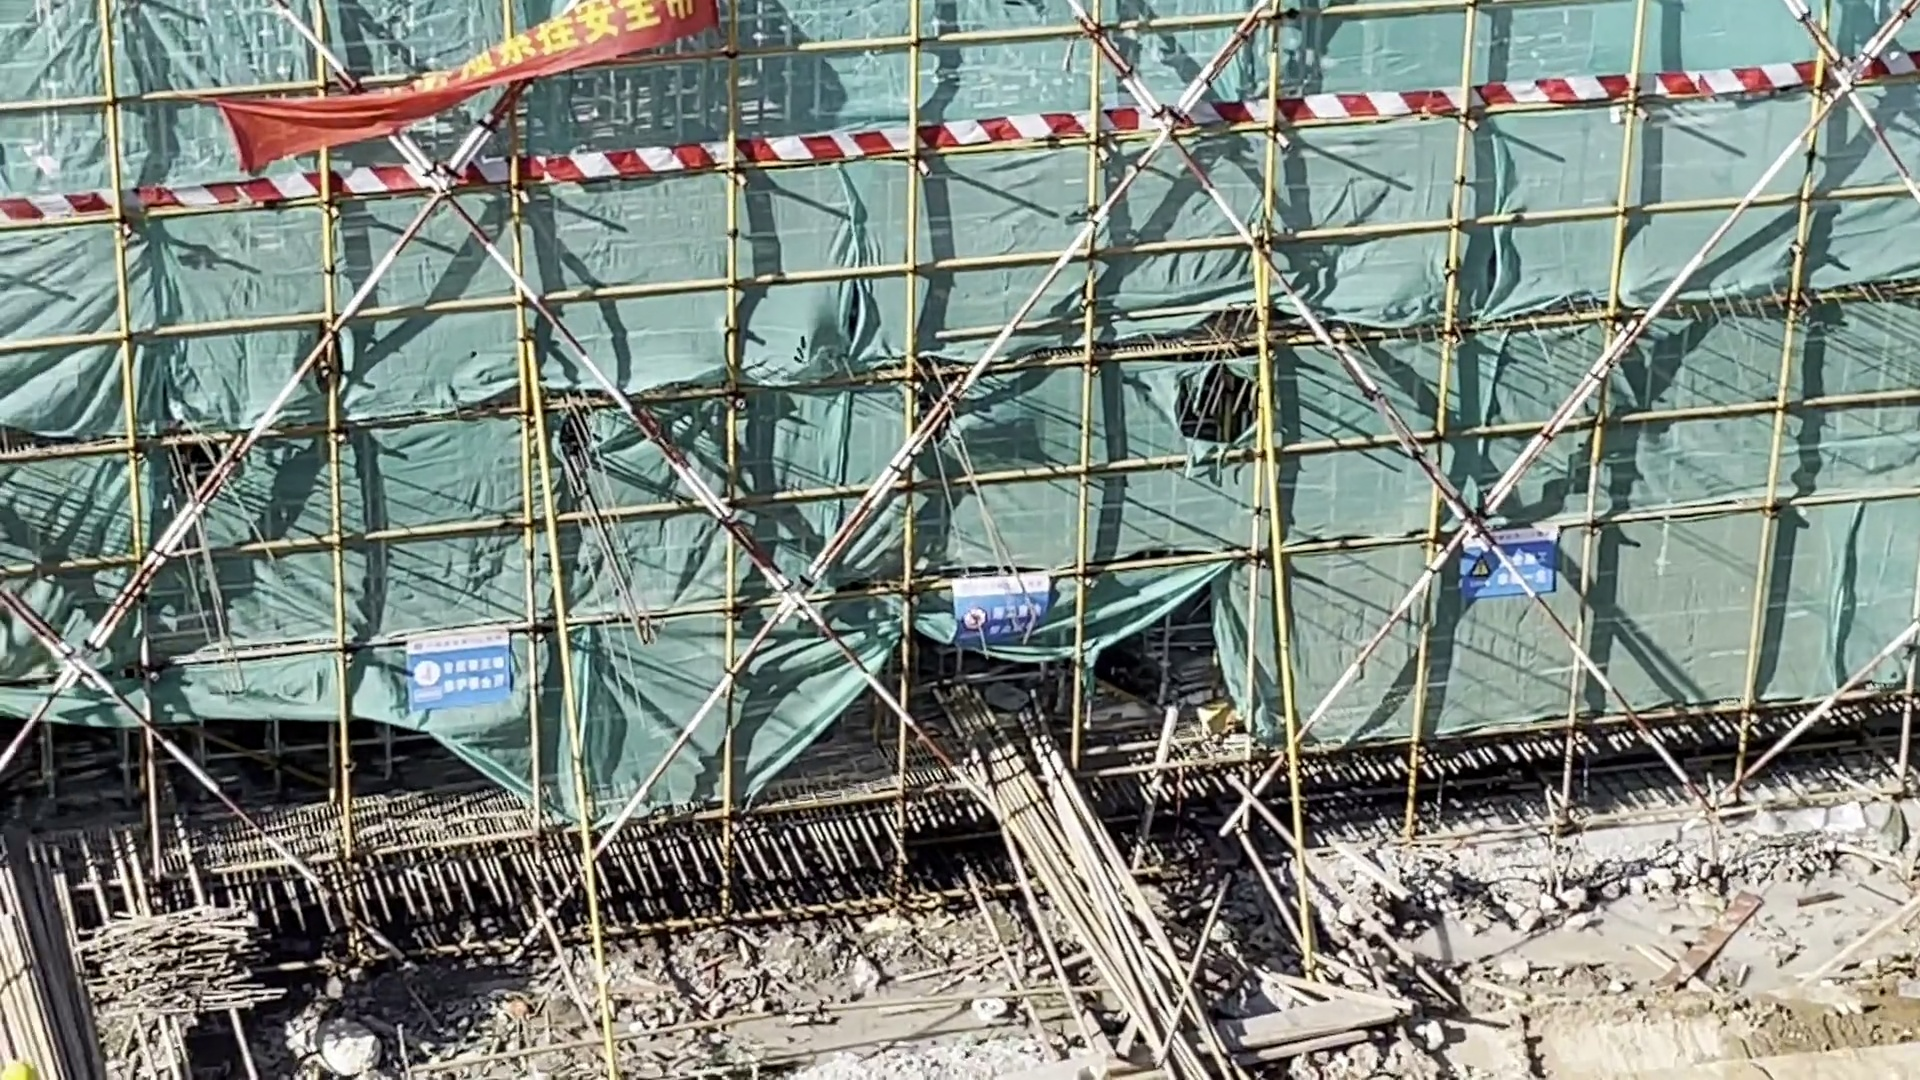helmet: (5, 1059, 36, 1080)
slogan: (257, 3, 709, 156), (406, 636, 501, 703), (952, 582, 1039, 649), (1462, 534, 1543, 600)
